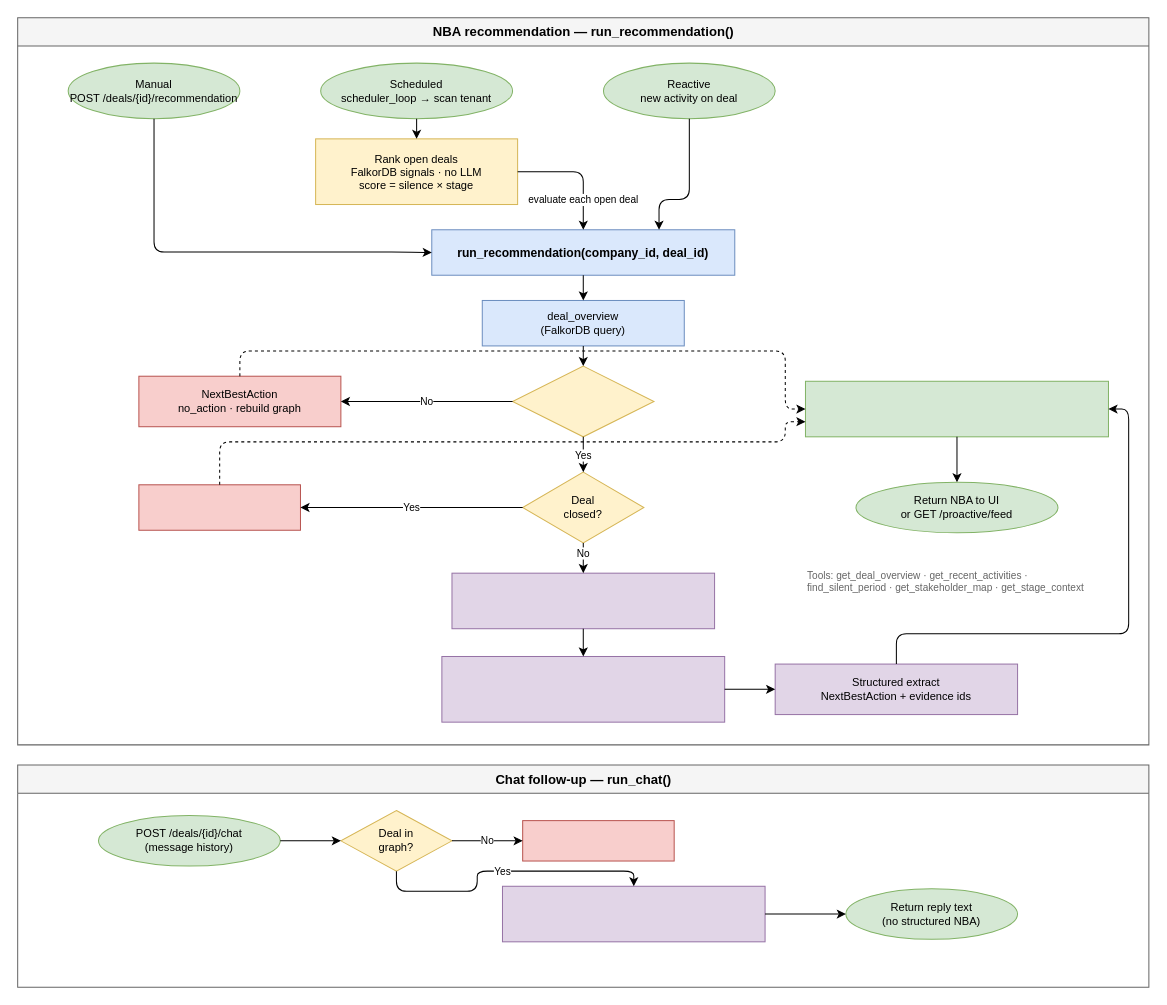
Some shapes in this 1167 by 1005 pixel diagram are drawn without their labels. The shapes that lost their labels are listed below. From the top down, each one's centre as x and y in pixels, then its label:
At (583,401): "Deal in graph snapshot?".
At (956,408): "Upsert recommendations inbox (Postgres) — manual / scheduled / reactive".
At (219,507): "no_action · skip LLM".
At (583,600): "make_tools (5 scoped) create_react_agent + SYSTEM_PROMPT".
At (583,688): "LangGraph ReAct loop recursion_limit = 12 Anthropic ↔ graph tools → FalkorDB".
At (598,840): "Reply: rebuild graph".
At (633,913): "ReAct + CHAT_SYSTEM_PROMPT same 5 tools · recursion_limit 12".
